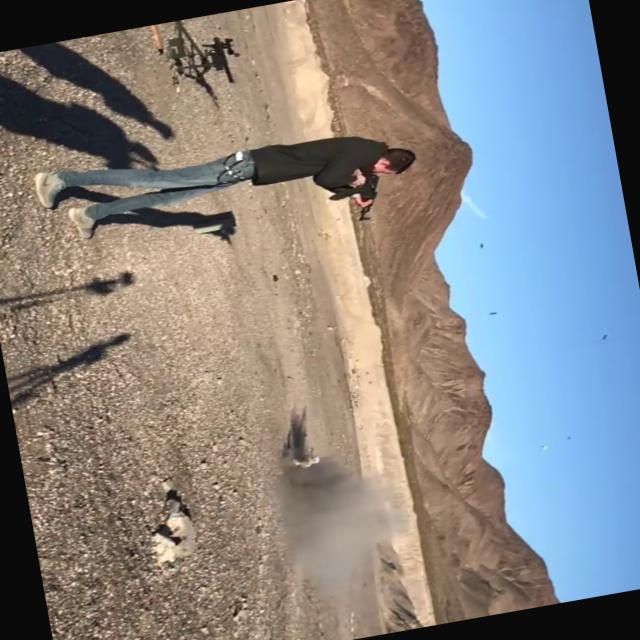long weapon: (177, 25, 261, 105), (322, 151, 389, 237)
